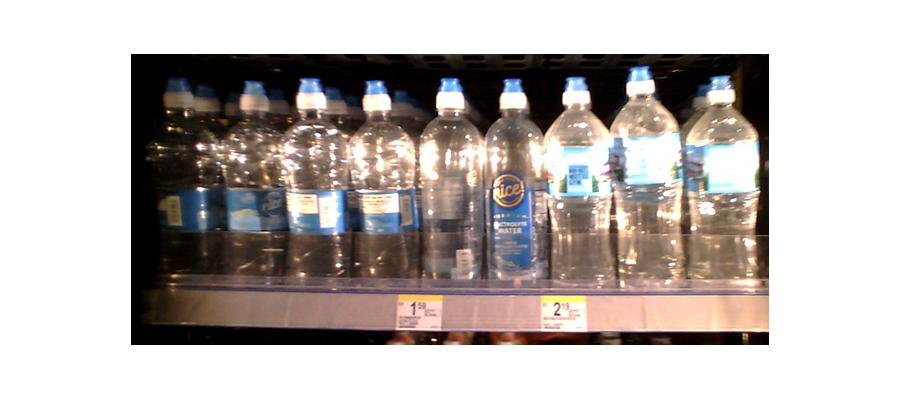bottle: (612, 67, 685, 292), (685, 73, 759, 286), (545, 80, 617, 293), (147, 87, 218, 285), (419, 83, 484, 288), (350, 86, 417, 282), (484, 81, 546, 288), (280, 86, 346, 276), (219, 90, 282, 275)
